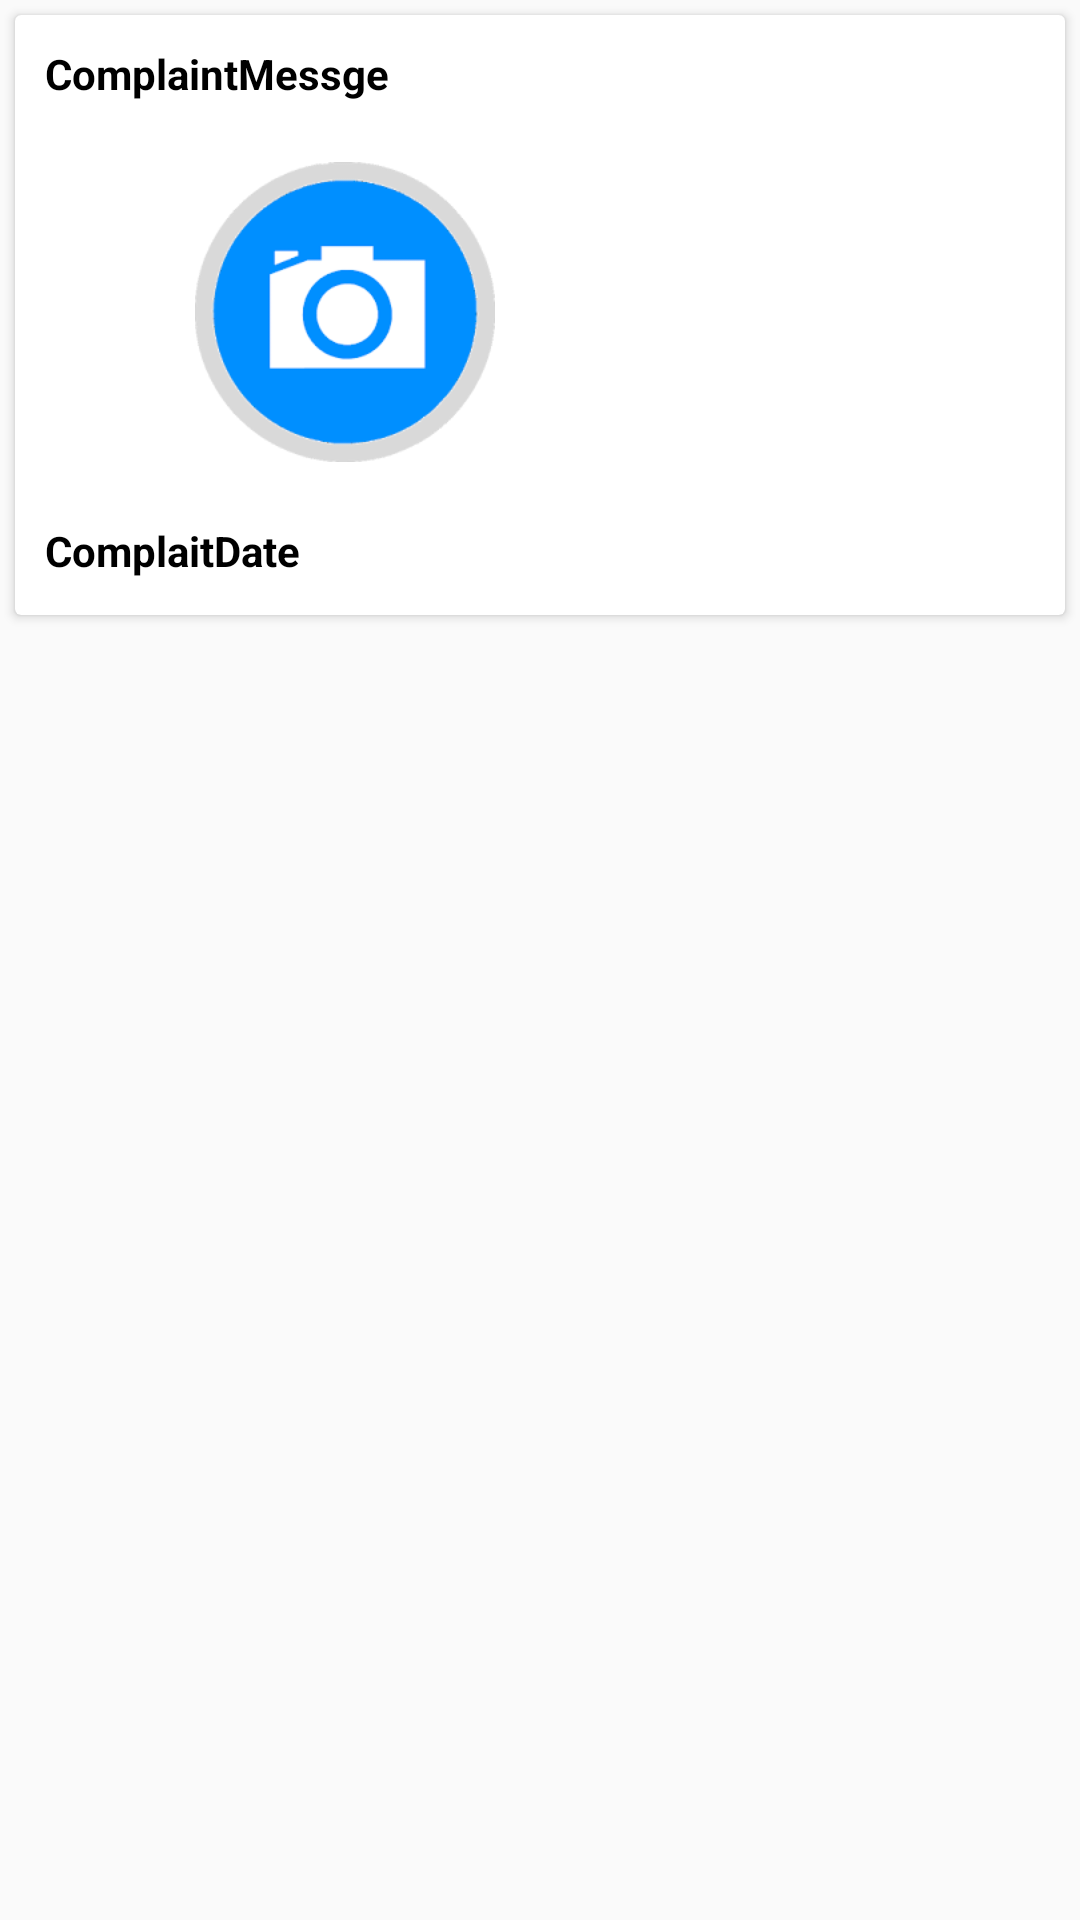

Icons on this 1080×1920 Android screen, each with its box as (x1, y1, x2, y2):
take pic: (195, 162, 495, 462)
